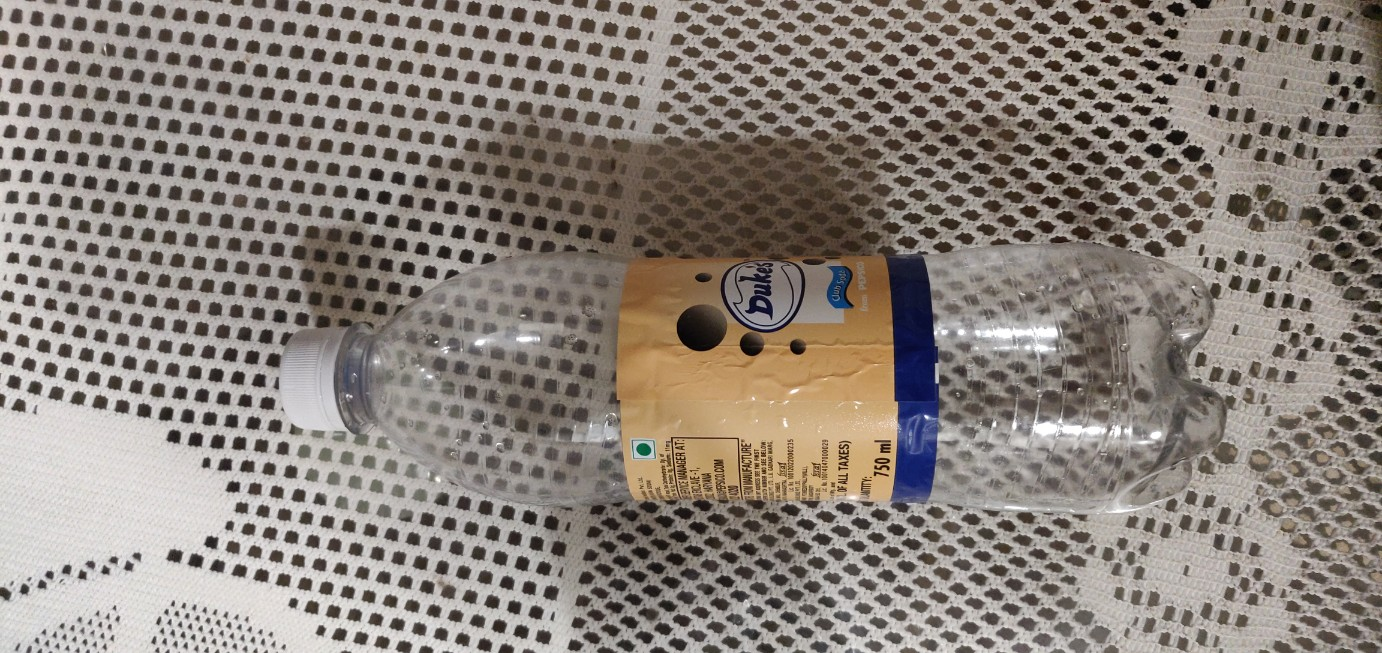Electronics: (262, 220, 1251, 548)
